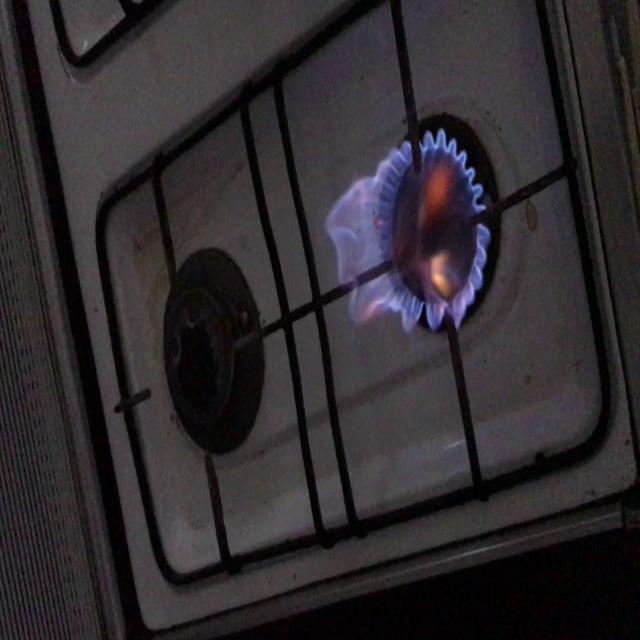Fire: (315, 138, 502, 342)
